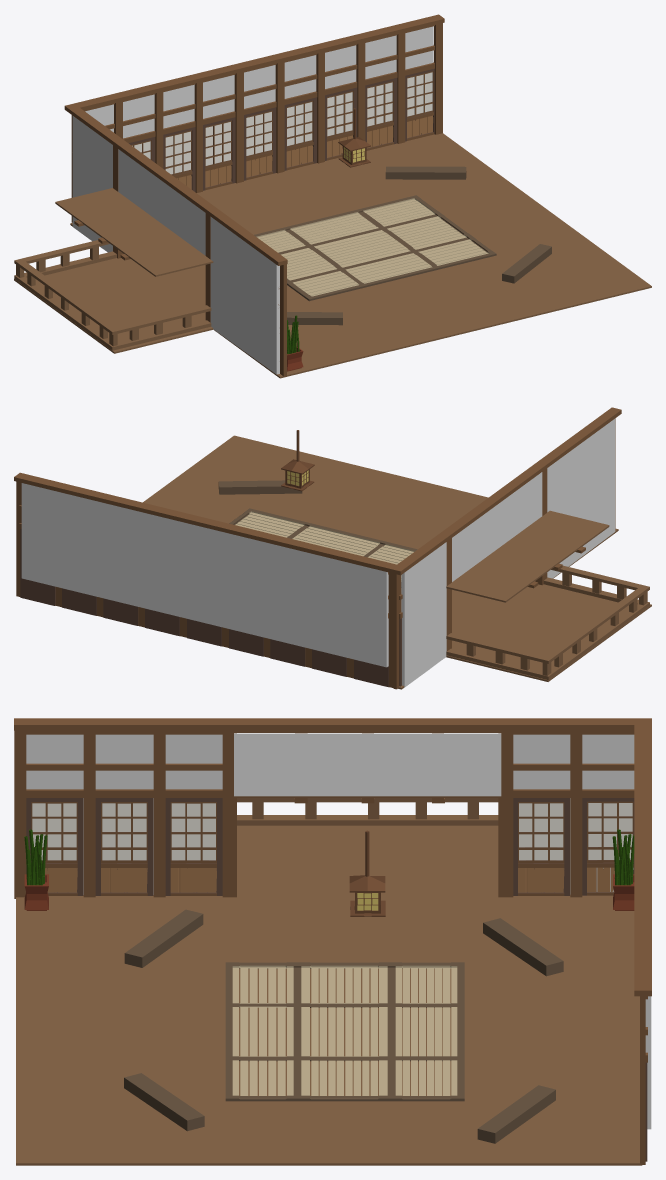
The model's file is arena.fbx.
3 renders of one model, top to bottom at view 1: azimuth 30°, elevation 25°; view 2: azimuth 150°, elevation 25°; view 3: azimuth 270°, elevation 25°, orthographic. The views are drawn at different scales.
Visible parts, largest first — view 1: Cube.003, Cube.008, Plane, Cube.029, Cube.031, Cube, Cube.066, Cube.034, Cube.036, Cube.038, Cube.023, Cube.028 (+23 smaller); view 2: Cube.029, Cube.003, Cube.008, Cube.031, Cube, Cube.066, Plane, Cube.007, Cube.074, Cube.052, Cube.028, Cube.018 (+16 smaller); view 3: Cube.003, Plane, Cube.070, Cube, Cube.008, Cube.031, Cube.014, Cube.012, Cube.020, Cube.016, Cube.019, Cube.024 (+19 smaller).
Part boxes in pixels (<box>): Cube.003: <box>70,133,651,378</box>; Cube.008: <box>72,116,279,374</box>; Plane: <box>254,195,496,301</box>; Cube.029: <box>85,26,433,138</box>; Cube.031: <box>64,14,444,265</box>; Cube: <box>14,258,213,353</box>; Cube.066: <box>55,188,213,276</box>; Cube.034: <box>284,97,316,170</box>; Cube.036: <box>244,107,276,180</box>; Cube.038: <box>203,117,235,190</box>; Cube.023: <box>365,78,397,150</box>; Cube.028: <box>405,68,434,141</box>; Cube.029: <box>21,483,388,667</box>; Cube.003: <box>143,435,618,689</box>; Cube.008: <box>401,418,615,687</box>; Cube.031: <box>14,407,621,575</box>; Cube: <box>446,584,651,681</box>; Cube.066: <box>446,510,609,602</box>; Plane: <box>229,508,417,587</box>; Cube.007: <box>546,588,645,660</box>; Cube.074: <box>218,480,302,494</box>; Cube.052: <box>551,603,645,676</box>; Cube.028: <box>20,529,55,605</box>; Cube.018: <box>393,573,400,689</box>; Cube.003: <box>16,892,642,1165</box>; Plane: <box>225,962,464,1101</box>; Cube.070: <box>234,733,501,796</box>; Cube: <box>237,825,498,892</box>; Cube.008: <box>26,734,634,894</box>; Cube.031: <box>14,718,651,996</box>; Cube.014: <box>95,798,153,895</box>; Cube.012: <box>165,798,222,895</box>; Cube.020: <box>513,798,569,895</box>; Cube.016: <box>26,798,83,895</box>; Cube.019: <box>582,798,634,895</box>; Cube.024: <box>26,789,634,797</box>.
Size of the model in its own units: 4014 by 1135 by 3156.
